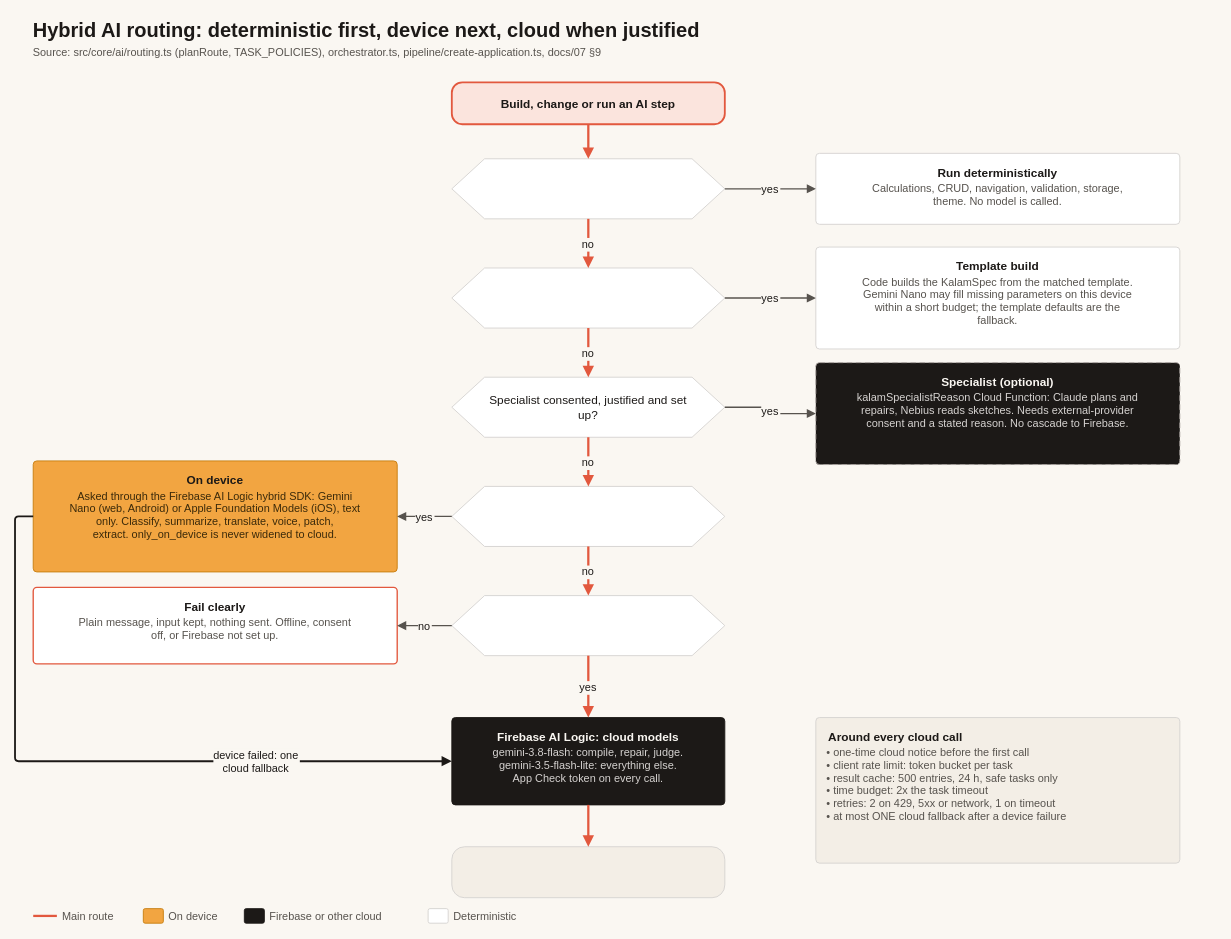
This 1231x939 diagram has some shape labels left out. Here are the shapes that lost their labels. From the top down, the centre of each, then its label:
the point at 588,188: Can ordinary software do it?
the point at 588,297: Simple request that fits a template?
the point at 588,515: Device model allowed for this task and input?
the point at 588,625: Cloud allowed, online and set up?
the point at 588,872: Zod parse, then validateSpec: invalid output is rejected
